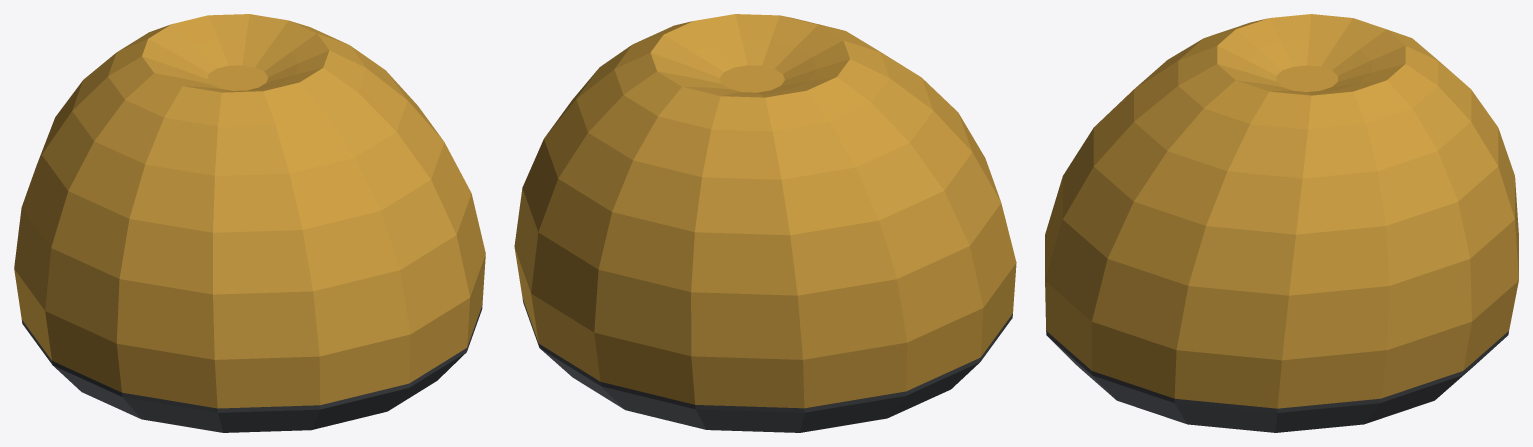
The model's file is FN_Chair_Bean.glb.
3 renders of one model, left to right at view 1: azimuth 30°, elevation 25°; view 2: azimuth 150°, elevation 25°; view 3: azimuth 270°, elevation 25°, orthographic. The views are drawn at different scales.
Parts seen in each view (by area): view 1: FN_Chair_Bean; view 2: FN_Chair_Bean; view 3: FN_Chair_Bean.
Part boxes in pixels (left/top/right/bottom): FN_Chair_Bean: left=14, top=14, right=485, bottom=432; FN_Chair_Bean: left=514, top=14, right=1016, bottom=432; FN_Chair_Bean: left=1045, top=14, right=1518, bottom=432.
Bounding box in the file's own units: 0.956 × 0.64 × 0.932.
Materials: 1 (1 with a texture image).
